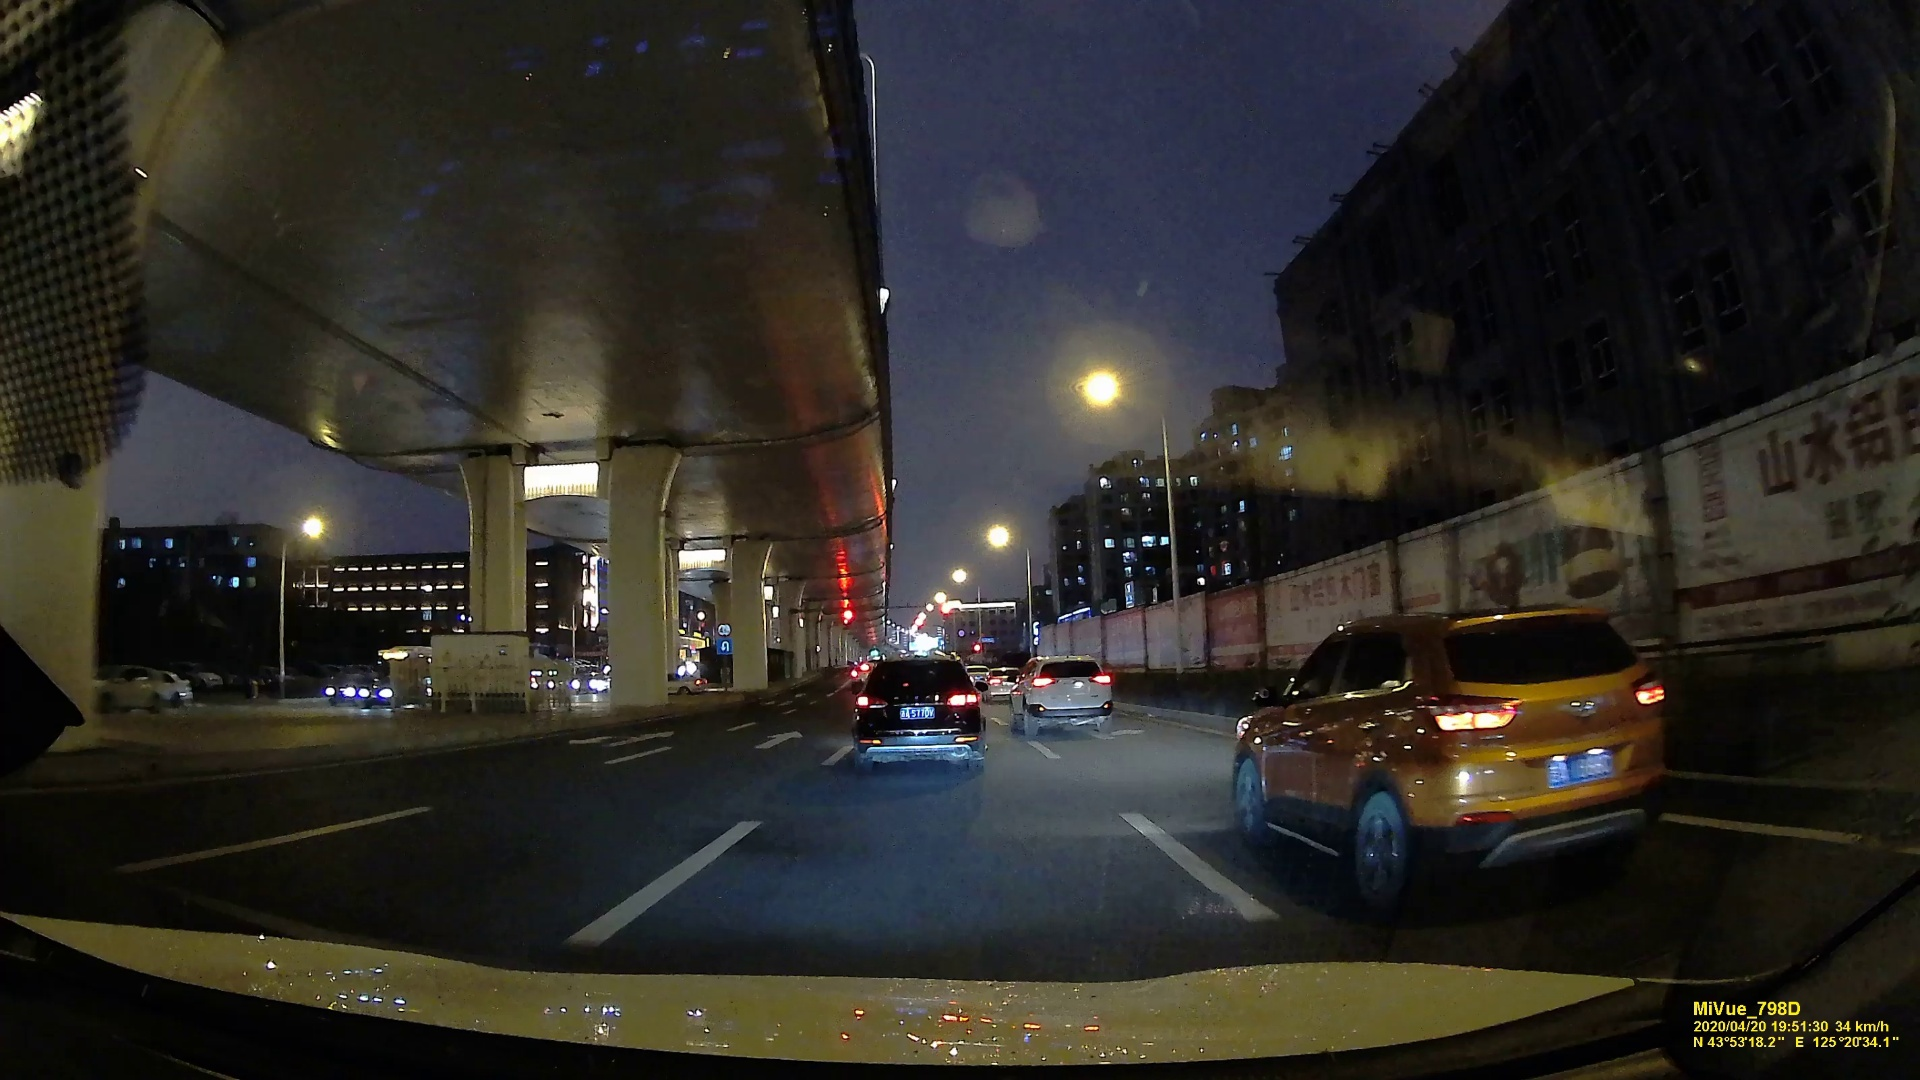bus: (371, 645, 431, 702)
vehicle: (1229, 596, 1667, 918), (853, 655, 986, 775), (1014, 654, 1116, 735)
